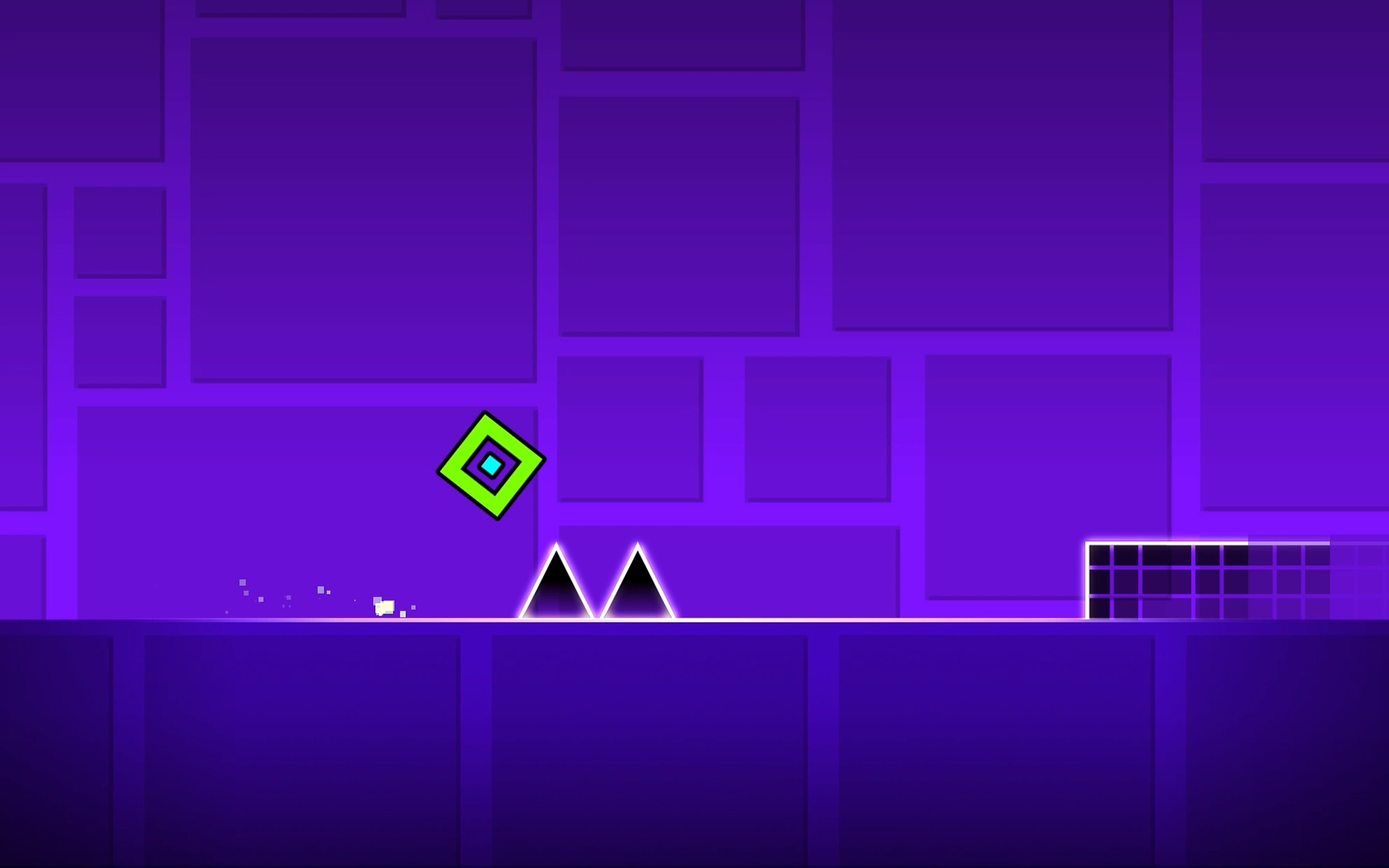Block2: (1087, 540, 1388, 620)
Player: (435, 412, 544, 519)
Spike: (599, 542, 677, 618), (517, 542, 594, 618)
